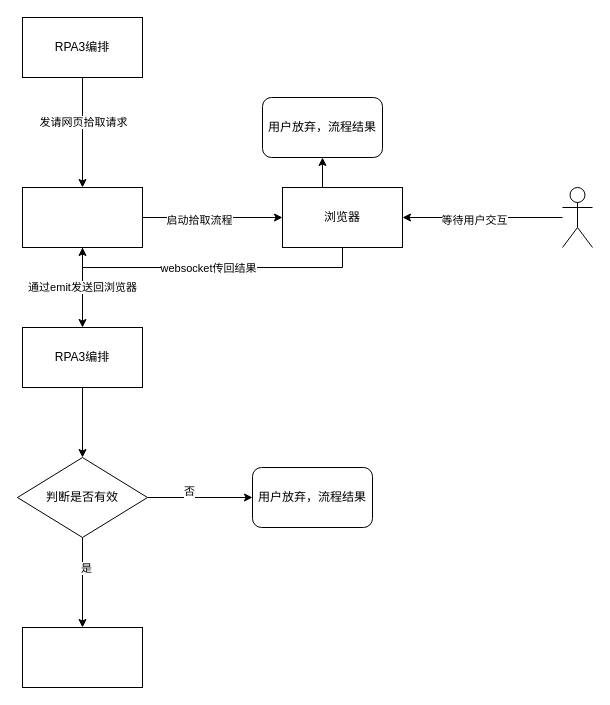
Image size: 610x705. Some labels were removed from this diagram. Each missing label, with the box of its shape:
存入元素库并应用流程: (22, 626, 142, 688)
客户端: (22, 186, 142, 248)
用户: (562, 186, 592, 248)
